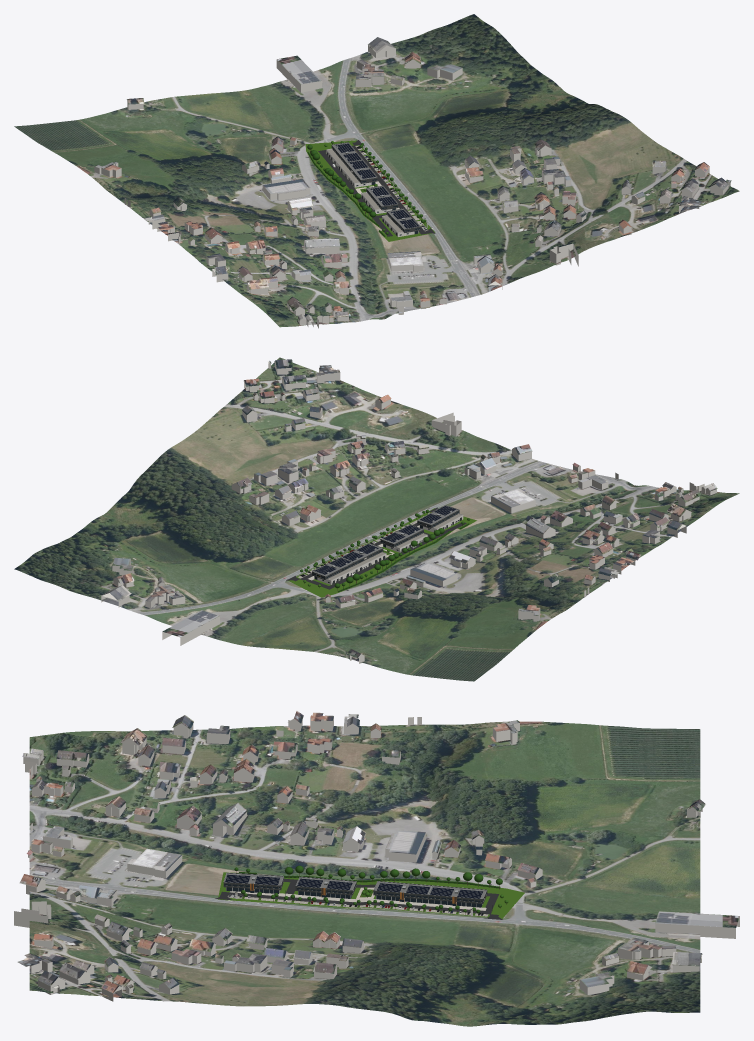
Rendered from teichwiese.glb.
3 renders of one model, top to bottom at view 1: azimuth 30°, elevation 25°; view 2: azimuth 150°, elevation 25°; view 3: azimuth 270°, elevation 25°, orthographic. The views are drawn at different scales.
Visible parts, largest first — view 1: Web_Gelaende, Web_Umgebung, Web_Rasen_Grundstueck, Web_Bauteil_4_Gebaeude, Web_Bauteil_2_Gebaeude, Web_Bauteil_3_Gebaeude, Web_Bauteil_1_Gebaeude; view 2: Web_Gelaende, Web_Umgebung, Web_Rasen_Grundstueck, Web_Bauteil_1_Gebaeude, Web_Bauteil_4_Gebaeude, Web_Bauteil_3_Gebaeude, Web_Bauteil_2_Gebaeude; view 3: Web_Gelaende, Web_Umgebung, Web_Rasen_Grundstueck, Web_Bauteil_3_Gebaeude, Web_Bauteil_4_Gebaeude, Web_Bauteil_1_Gebaeude, Web_Bauteil_2_Gebaeude, Web_Fahrgasse, Web_Gehweg, Web_Parken_Rasengitter.
Part boxes in pixels (bbox=[...]): Web_Gelaende: bbox=[14, 14, 739, 327]; Web_Umgebung: bbox=[94, 37, 731, 328]; Web_Rasen_Grundstueck: bbox=[305, 140, 435, 241]; Web_Bauteil_4_Gebaeude: bbox=[382, 208, 420, 236]; Web_Bauteil_2_Gebaeude: bbox=[340, 160, 377, 187]; Web_Bauteil_3_Gebaeude: bbox=[361, 185, 398, 213]; Web_Bauteil_1_Gebaeude: bbox=[326, 142, 362, 170]; Web_Gelaende: bbox=[14, 357, 739, 681]; Web_Umgebung: bbox=[101, 359, 717, 663]; Web_Rasen_Grundstueck: bbox=[288, 508, 476, 597]; Web_Bauteil_1_Gebaeude: bbox=[312, 557, 358, 584]; Web_Bauteil_4_Gebaeude: bbox=[417, 505, 463, 532]; Web_Bauteil_3_Gebaeude: bbox=[380, 524, 427, 552]; Web_Bauteil_2_Gebaeude: bbox=[341, 543, 386, 570]; Web_Gelaende: bbox=[29, 721, 700, 1026]; Web_Umgebung: bbox=[14, 711, 739, 1001]; Web_Rasen_Grundstueck: bbox=[218, 872, 524, 918]; Web_Bauteil_3_Gebaeude: bbox=[295, 876, 356, 898]; Web_Bauteil_4_Gebaeude: bbox=[223, 872, 283, 893]; Web_Bauteil_1_Gebaeude: bbox=[428, 885, 487, 907]; Web_Bauteil_2_Gebaeude: bbox=[373, 881, 432, 903]; Web_Fahrgasse: bbox=[221, 891, 491, 914]; Web_Gehweg: bbox=[230, 891, 486, 910]; Web_Parken_Rasengitter: bbox=[227, 895, 488, 916].
Size of the model in its own units: 614 by 61.23 by 650.
Materials: 45 (2 with a texture image).
